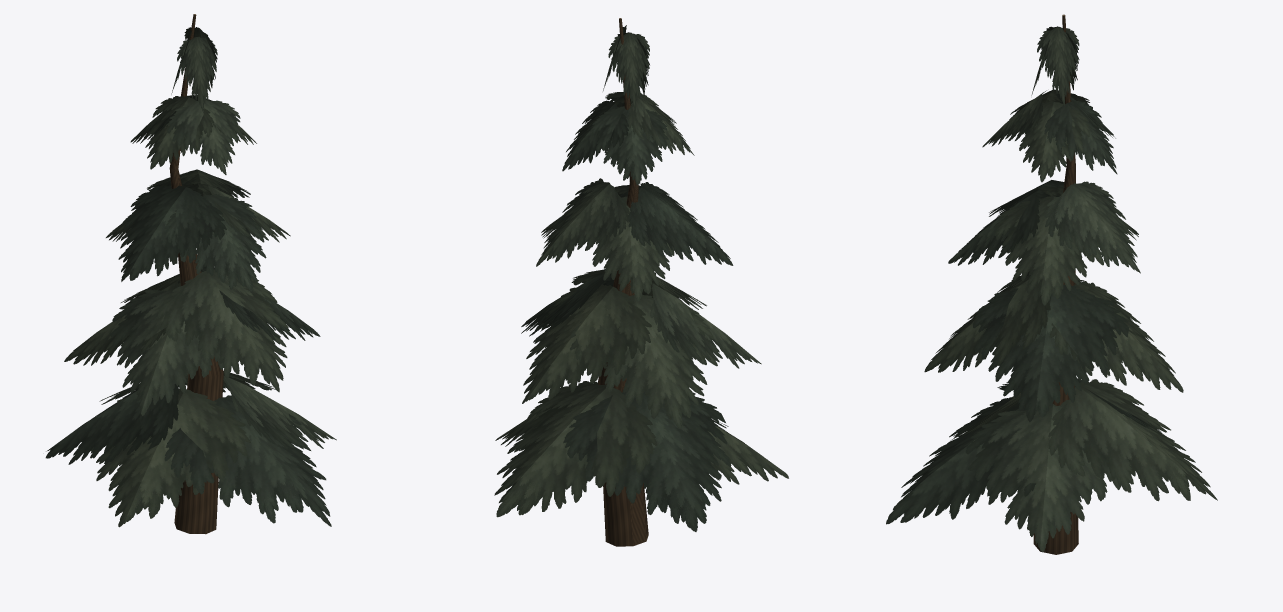
3 renders of one model, left to right at view 1: azimuth 30°, elevation 25°; view 2: azimuth 150°, elevation 25°; view 3: azimuth 270°, elevation 25°, orthographic. The views are drawn at different scales.
Visible parts, largest first — view 1: Tapered harvest trunk; view 2: Tapered harvest trunk; view 3: Tapered harvest trunk.
Boxes of the visible parts, <box> form: Tapered harvest trunk: <box>45,14,336,534</box>; Tapered harvest trunk: <box>494,18,788,546</box>; Tapered harvest trunk: <box>886,14,1217,554</box>.
Bounding box in the file's own units: 2.03 × 3.11 × 2.24.
3 materials, 2 textured.
